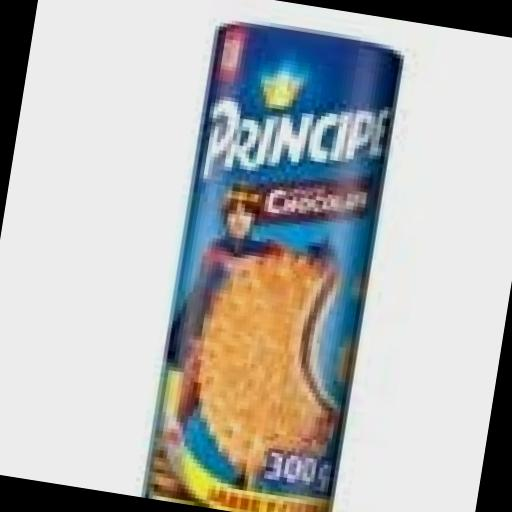prince: (95, 7, 470, 512)
